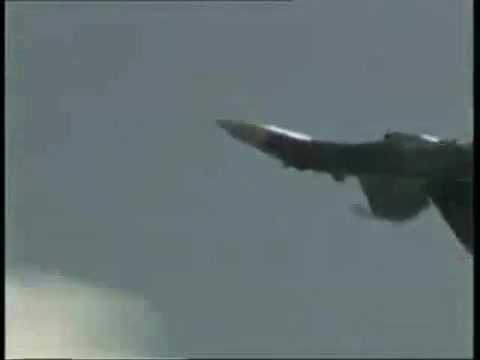aeroplane: (214, 111, 477, 265)
